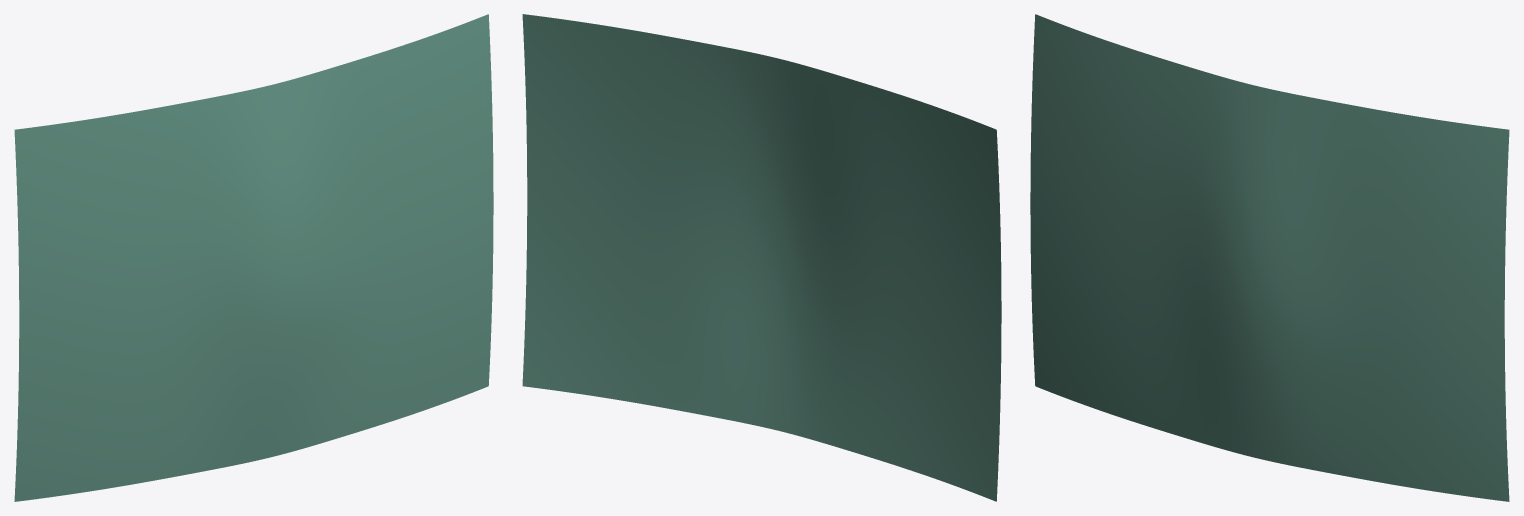
Rendered from synthetic-patch.glb.
3 renders of one model, left to right at view 1: azimuth 30°, elevation 25°; view 2: azimuth 150°, elevation 25°; view 3: azimuth 330°, elevation 25°, orthographic.
Parts seen in each view (by area): view 1: Synthetic raised fold; view 2: Synthetic raised fold; view 3: Synthetic raised fold.
Boxes of the visible parts, x1,y1,x2,y2 form: Synthetic raised fold: (14,14,493,501); Synthetic raised fold: (522,14,1001,501); Synthetic raised fold: (1030,14,1509,501).
Size of the model in its own units: 0.16 by 0.12 by 0.0161.
